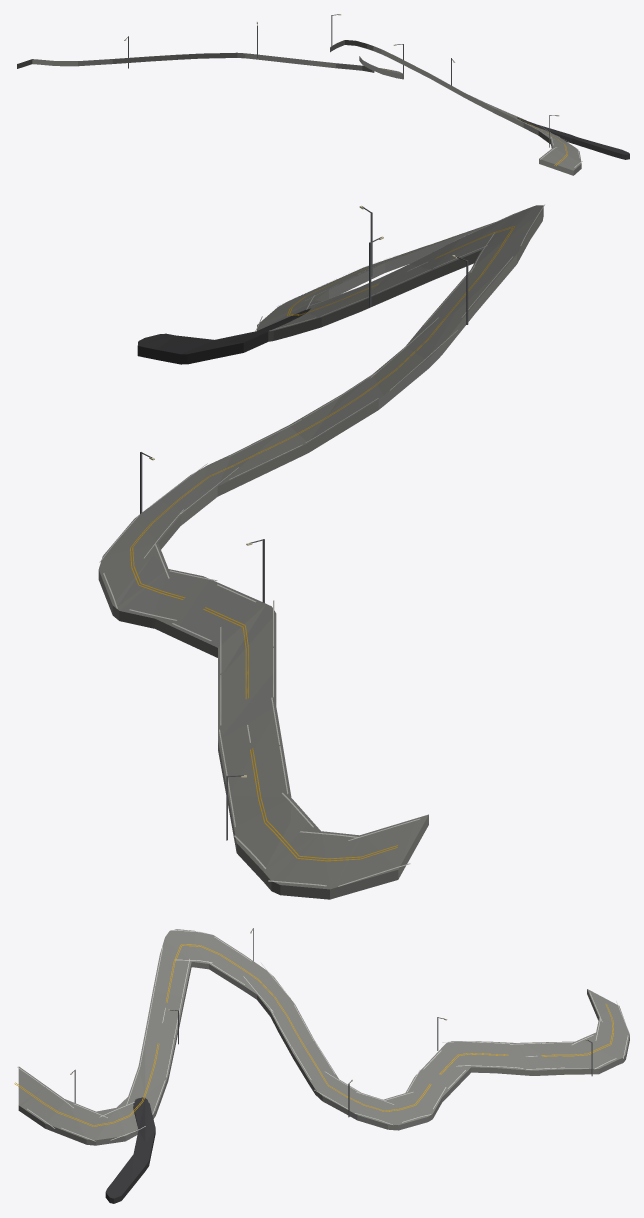
The model's file is 17-109405-59454.622dbe71.glb.
The picture shows the model from 3 angles, top to bottom: view 1: azimuth 30°, elevation 25°; view 2: azimuth 150°, elevation 25°; view 3: azimuth 270°, elevation 25°; orthographic projection. The views are drawn at different scales.
Bounding box in the file's own units: 92.15 × 39.14 × 125.
